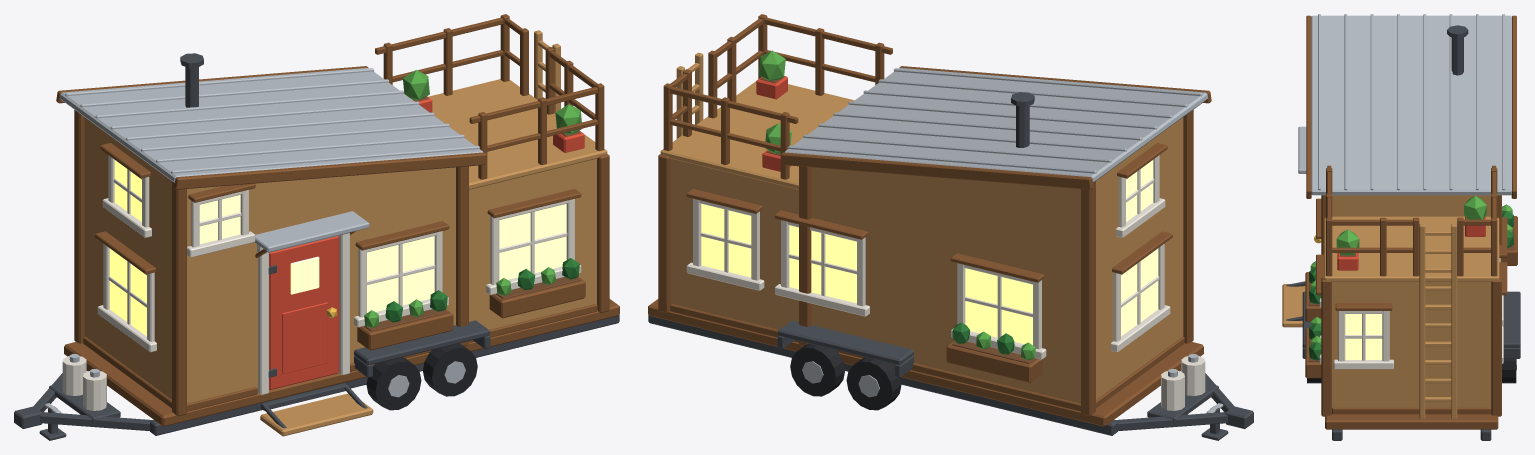
File: tiny-house-on-wheels.glb
3 views of the same model, side by side, from view 1: azimuth 30°, elevation 25°; view 2: azimuth 150°, elevation 25°; view 3: azimuth 270°, elevation 25° (orthographic). The views are drawn at different scales.
Visible parts, largest first — view 1: House_Body, Roof, RoofDeck_Floor, Door, Trailer_Deck, Roof_Fascia_Front, Window_F1_Glass, Window_F2_Glass, Corner_-12_-5, Door_Panel, Corner_-12_+5, PorchStep (+51 smaller); view 2: House_Body, Roof, RoofDeck_Floor, Trailer_Deck, Roof_Fascia_Back, Window_B1_Glass, Corner_-12_+5, Window_B2_Glass, Trailer_Rail_R, Window_B3_Glass, Corner_-12_-5, BaseBand_+1 (+46 smaller); view 3: Roof, House_Body, RoofDeck_Floor, Trailer_Deck, Window_R1_Glass, Corner_+12_-5, Corner_+12_+5, Ladder_Rail_0, Ladder_Rail_1, BaseBand_End_+12, Roof_Fascia_Front, Fender_R (+36 smaller).
Part boxes in pixels (box(x1,y1,x2,y2)): House_Body: box(84, 117, 596, 403); Roof: box(60, 68, 482, 182); RoofDeck_Floor: box(428, 79, 607, 189); Door: box(269, 236, 339, 389); Trailer_Deck: box(64, 299, 619, 426); Roof_Fascia_Front: box(174, 152, 486, 189); Window_F1_Glass: box(367, 236, 434, 312); Window_F2_Glass: box(499, 204, 566, 280); Corner_-12_-5: box(172, 181, 186, 416); Door_Panel: box(282, 302, 327, 373); Corner_-12_+5: box(74, 110, 84, 343); PorchStep: box(260, 393, 373, 436); House_Body: box(671, 117, 1183, 403); Roof: box(785, 68, 1207, 182); RoofDeck_Floor: box(660, 81, 854, 189); Trailer_Deck: box(648, 299, 1203, 426); Roof_Fascia_Back: box(781, 152, 1093, 189); Window_B1_Glass: box(965, 268, 1032, 344); Corner_-12_+5: box(1081, 181, 1095, 416); Window_B2_Glass: box(789, 225, 856, 303); Trailer_Rail_R: box(648, 314, 1117, 435); Window_B3_Glass: box(701, 204, 751, 277); Corner_-12_-5: box(1183, 110, 1193, 343); BaseBand_+1: box(670, 304, 1080, 411); Roof: box(1311, 15, 1511, 195); House_Body: box(1332, 195, 1491, 407); RoofDeck_Floor: box(1324, 216, 1499, 281); Trailer_Deck: box(1325, 414, 1498, 429); Window_R1_Glass: box(1345, 314, 1382, 359); Corner_+12_-5: box(1321, 277, 1331, 416); Corner_+12_+5: box(1491, 277, 1501, 416); Ladder_Rail_0: box(1419, 223, 1425, 418); Ladder_Rail_1: box(1451, 223, 1457, 418); BaseBand_End_+12: box(1332, 407, 1491, 414); Roof_Fascia_Front: box(1306, 15, 1311, 198); Fender_R: box(1503, 291, 1520, 347).
Bounding box in the file's own units: 31.6 × 17.23 × 13.45.
